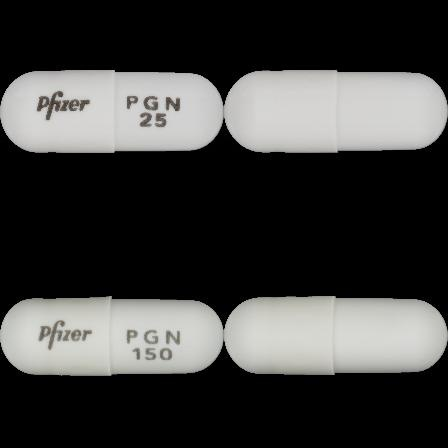35356-053: (0, 0, 224, 224)
